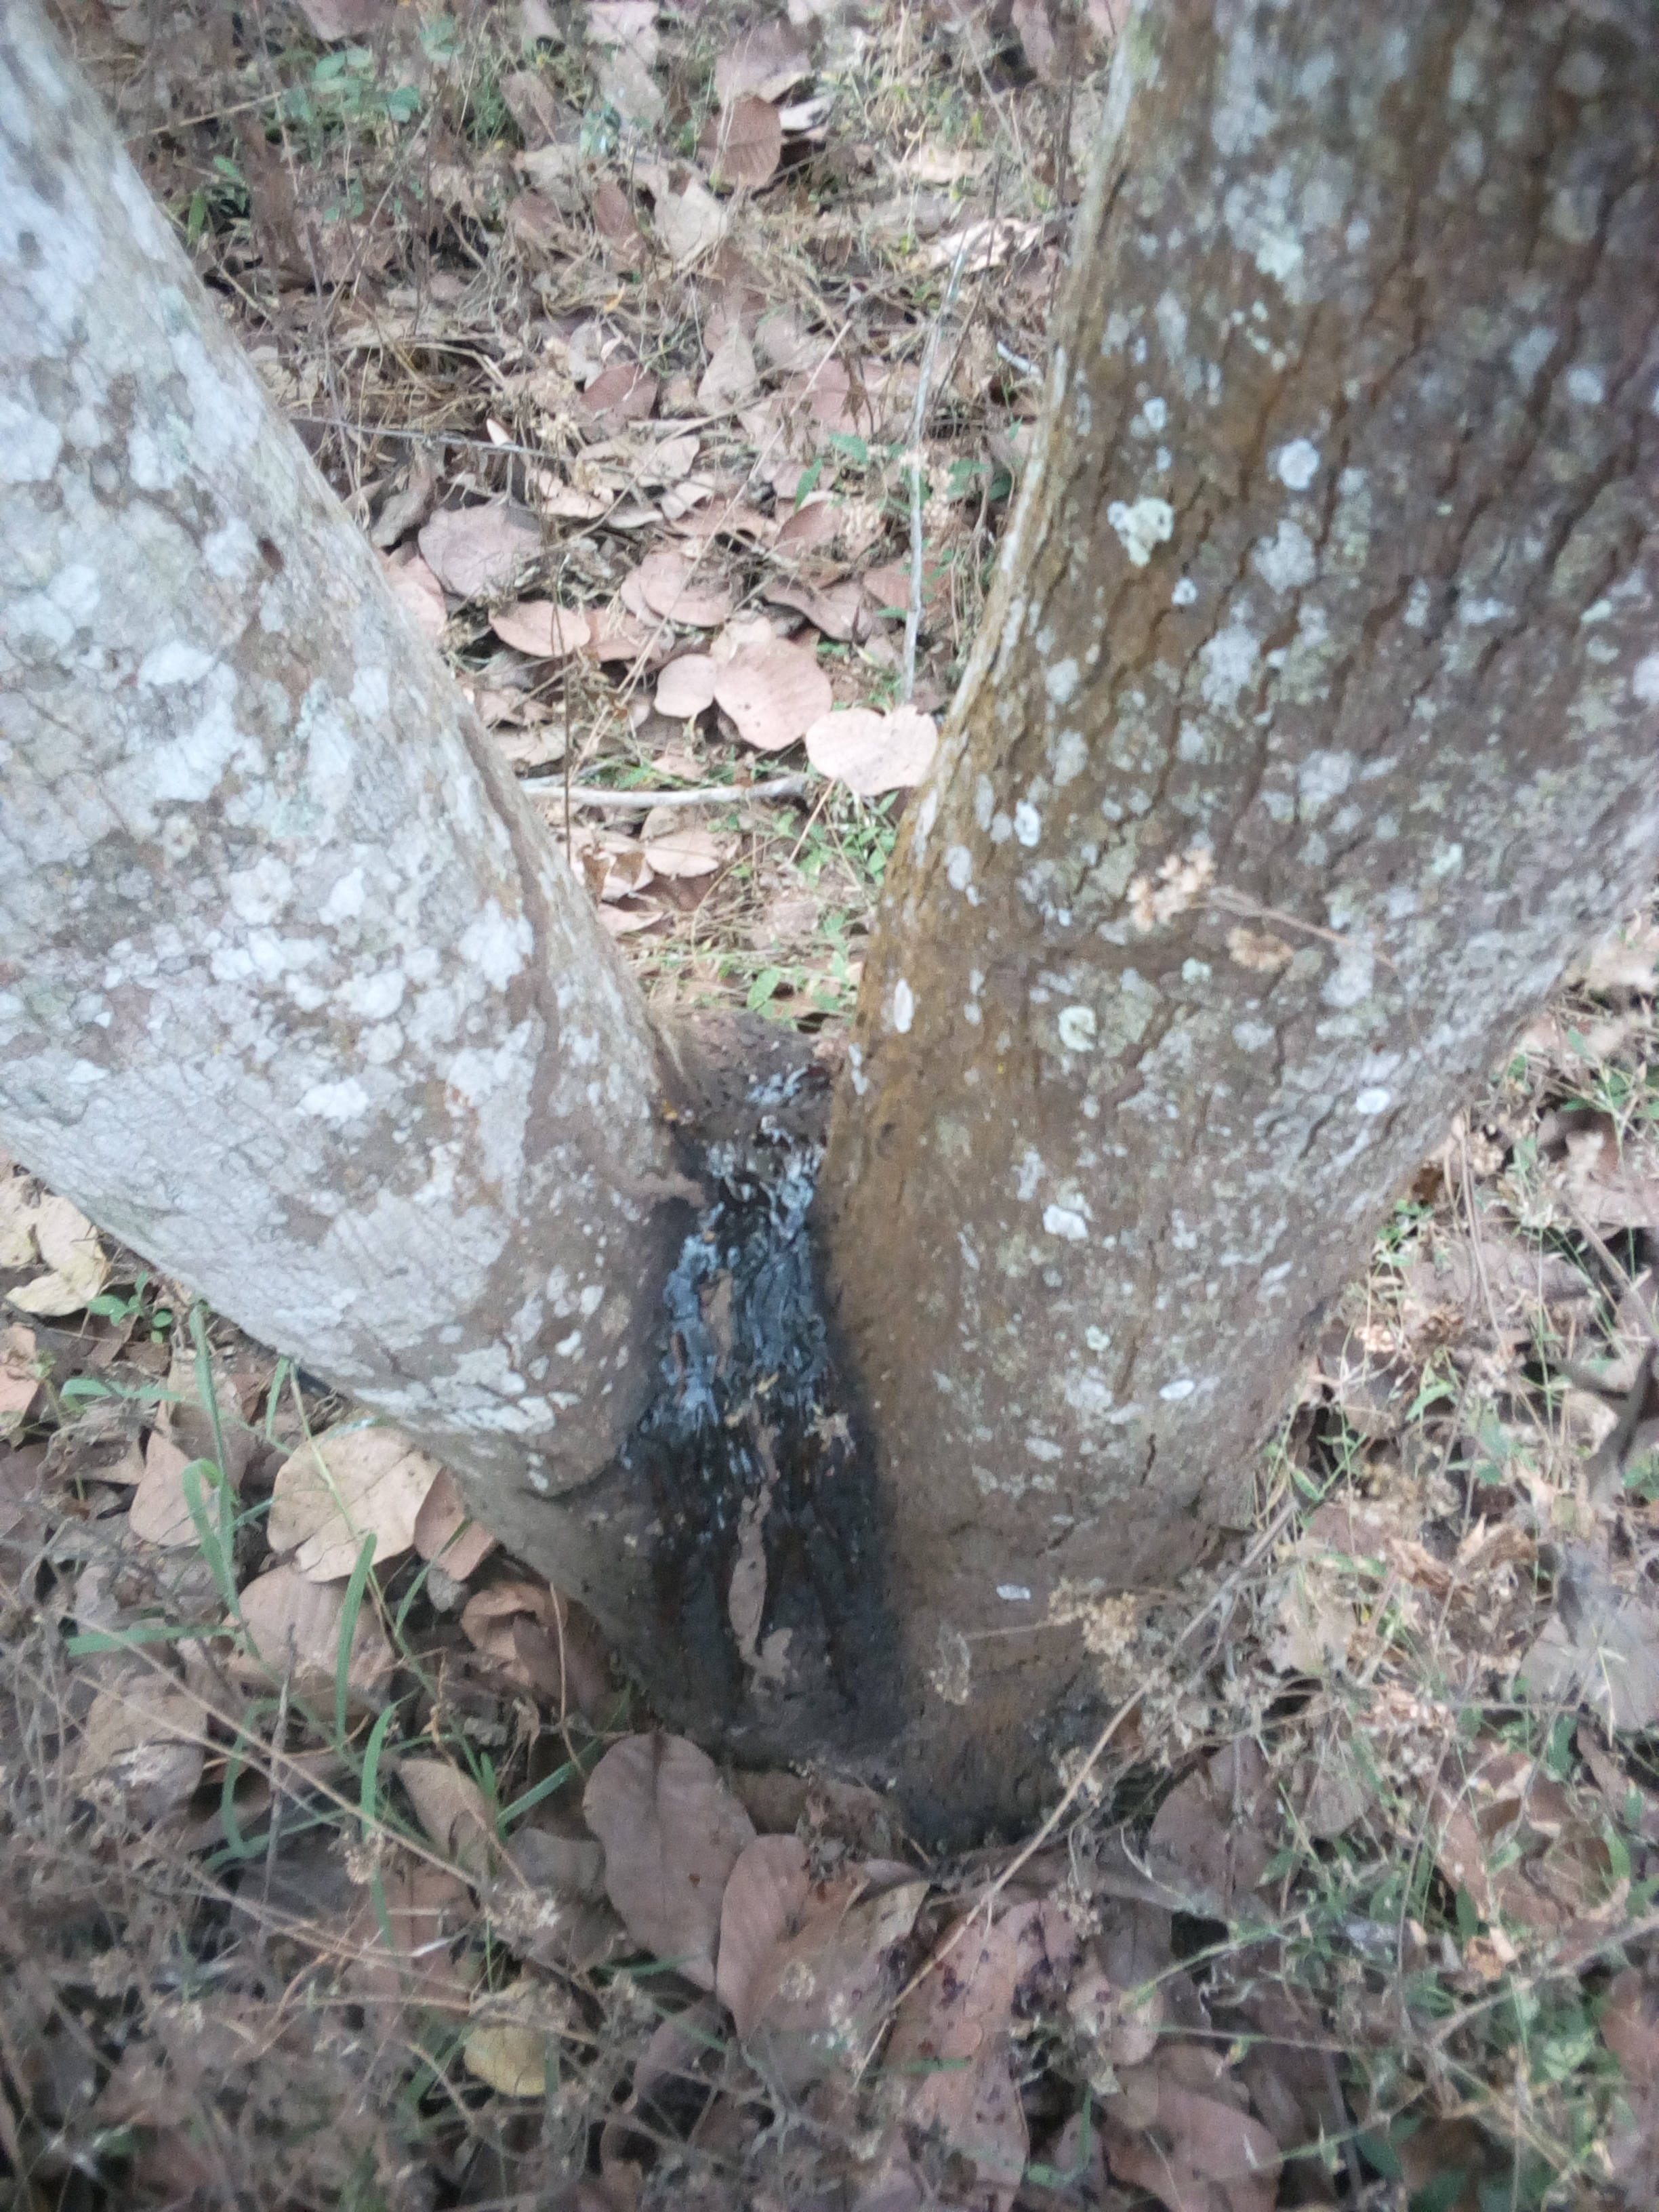Gommose: (636, 1139, 890, 1726)
